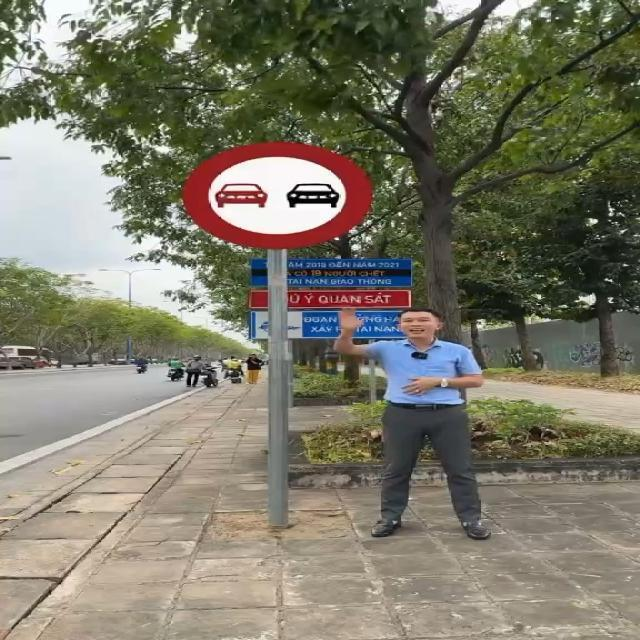125-cam-vuot: (183, 136, 369, 252)
